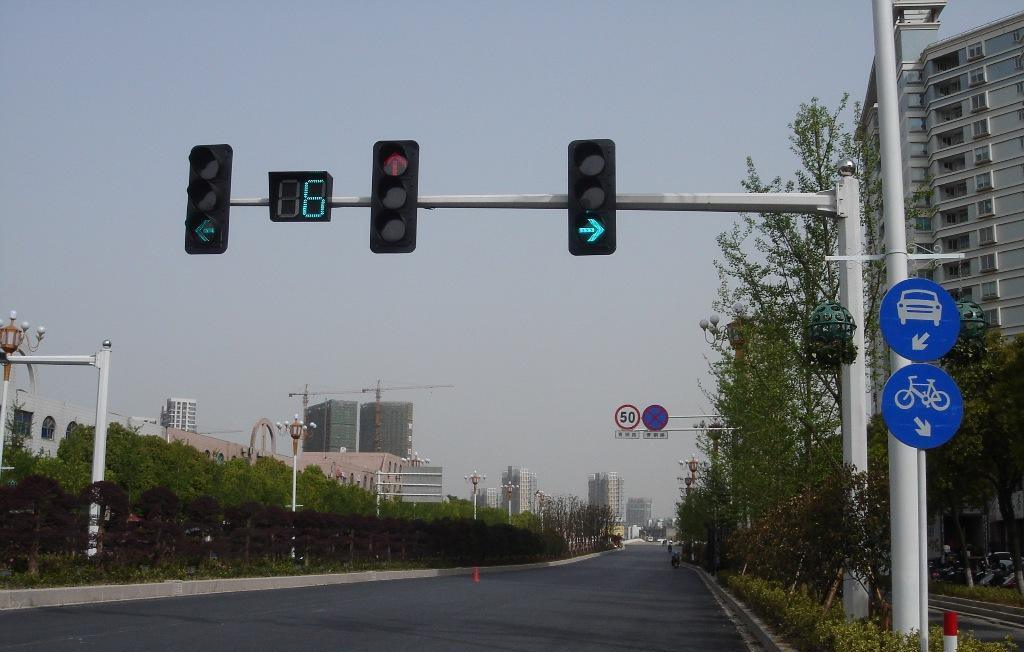green: (560, 133, 621, 256), (179, 141, 231, 258)
red: (368, 134, 418, 258)
